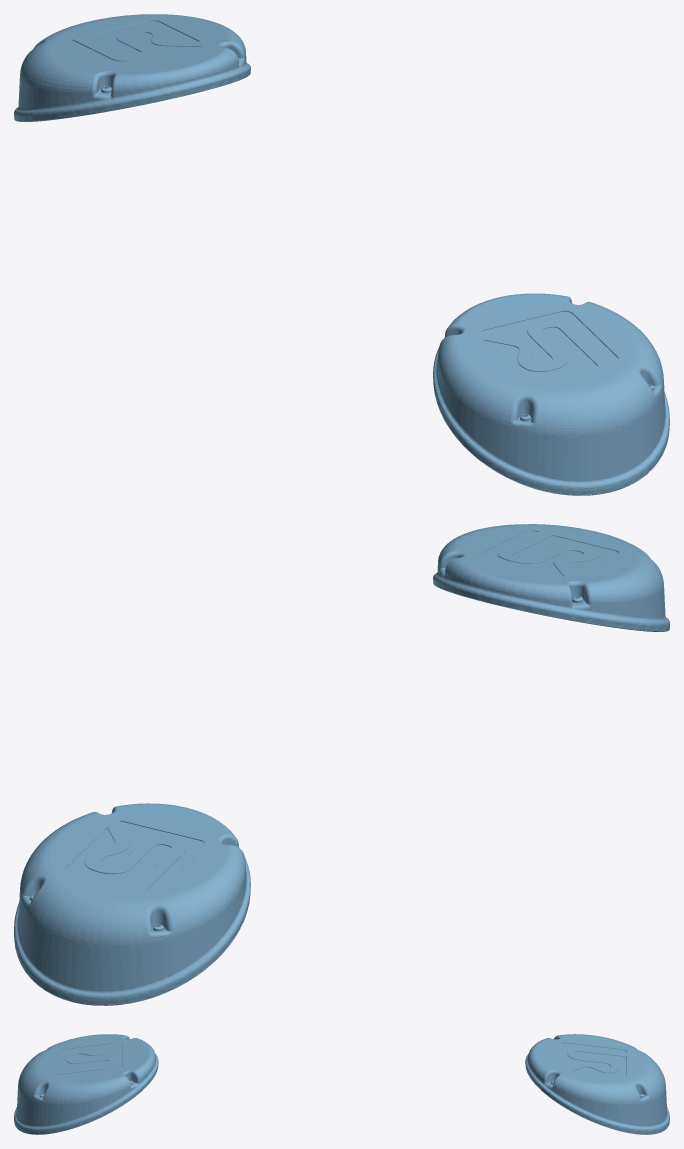
The model's file is accurate_urdf_dynamic_16505_upper_arm_link_visual_vis_1.dae.
3 views of the same model, one above another, from view 1: azimuth 30°, elevation 25°; view 2: azimuth 150°, elevation 25°; view 3: azimuth 270°, elevation 25° (orthographic). The views are drawn at different scales.
Parts seen in each view (by area): view 1: node; view 2: node; view 3: node.
Part boxes in pixels (x1,y1,x2,y2): node: (14,14,669,495); node: (14,524,669,1005); node: (14,1034,669,1134).
Bounding box in the file's own units: 0.1202 × 0.0633 × 0.5452.
